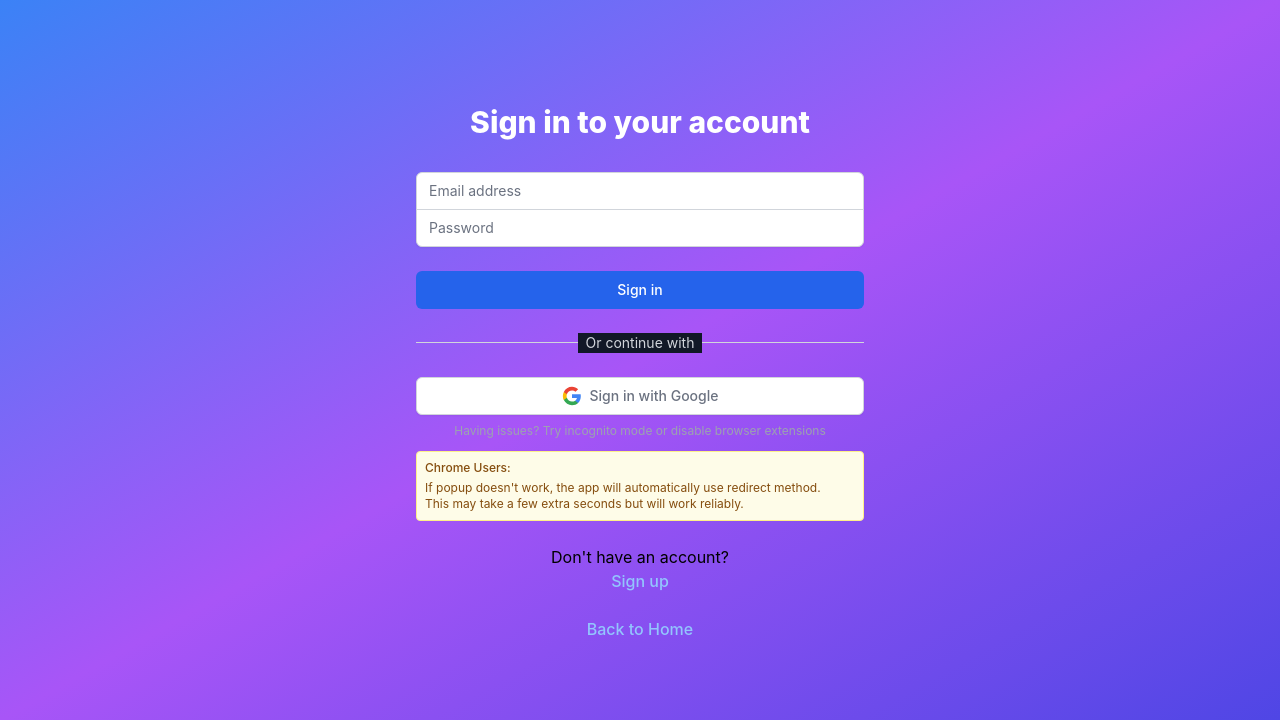
Login Page › Form Submission › handles form submission errors
Type "test@example.com" into the field with placeholder "Email address" at (640, 190), box 416,172 -> 864,210
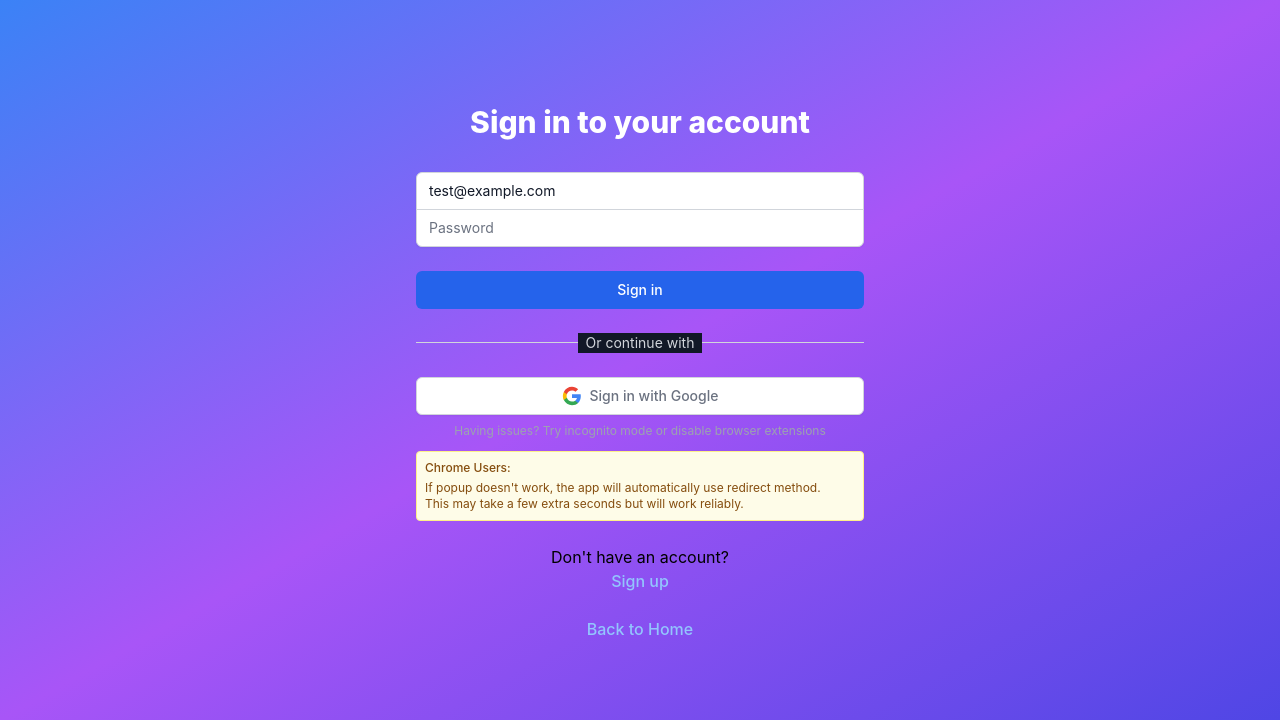
Type "wrongpassword" into the password field with placeholder "Password" at (640, 228), box 416,208 -> 864,246
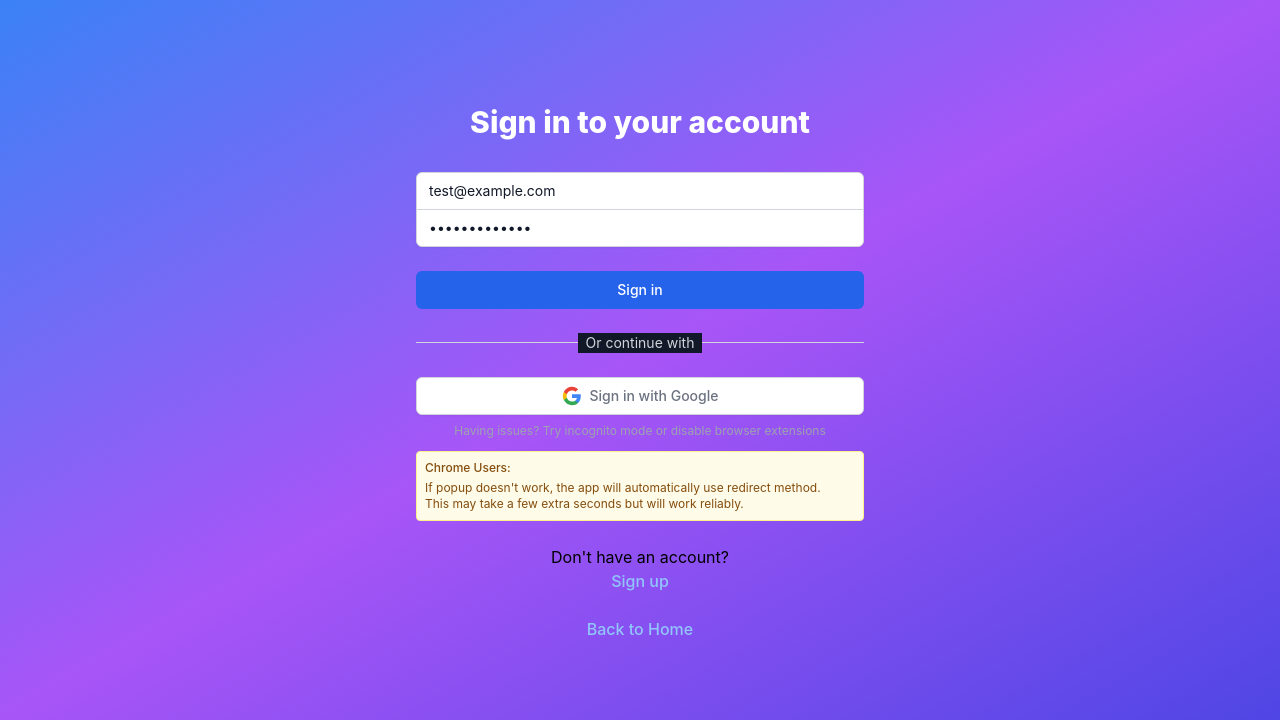
Click the button "Sign in" at (640, 290), box 416,270 -> 864,308
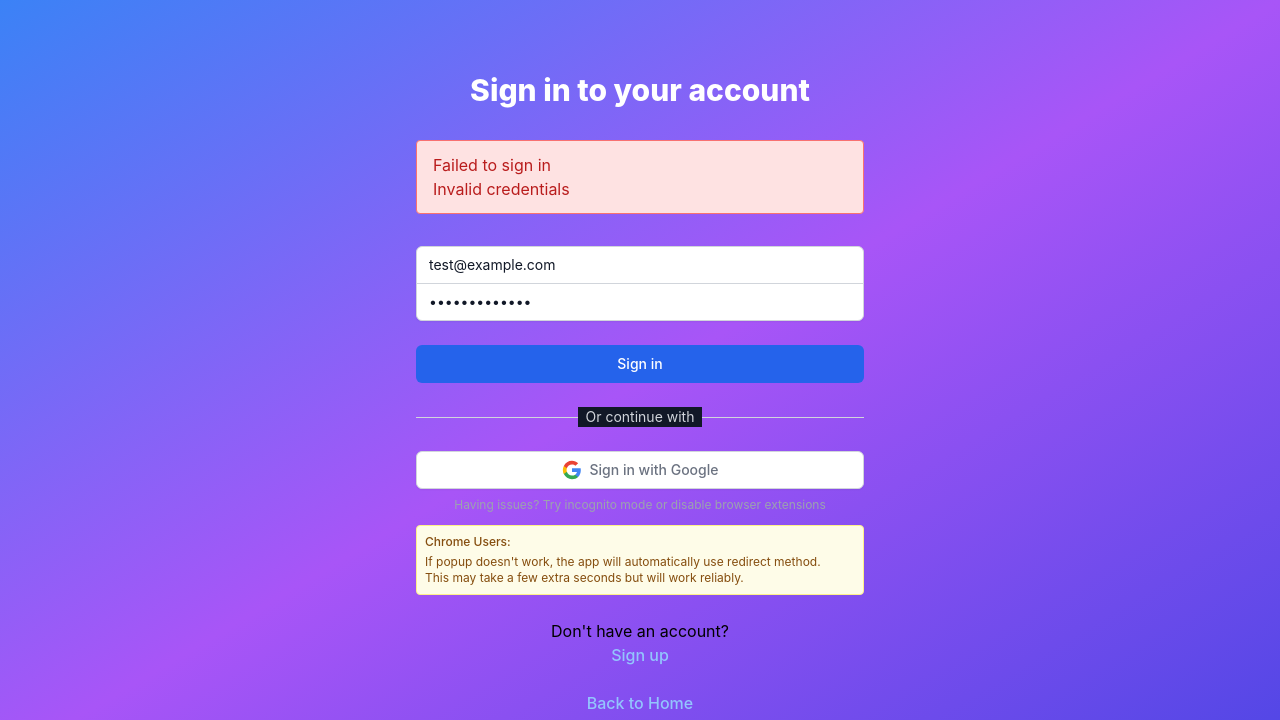
Expected: the text "Failed to sign in" is shown, 433,155 -> 551,175
